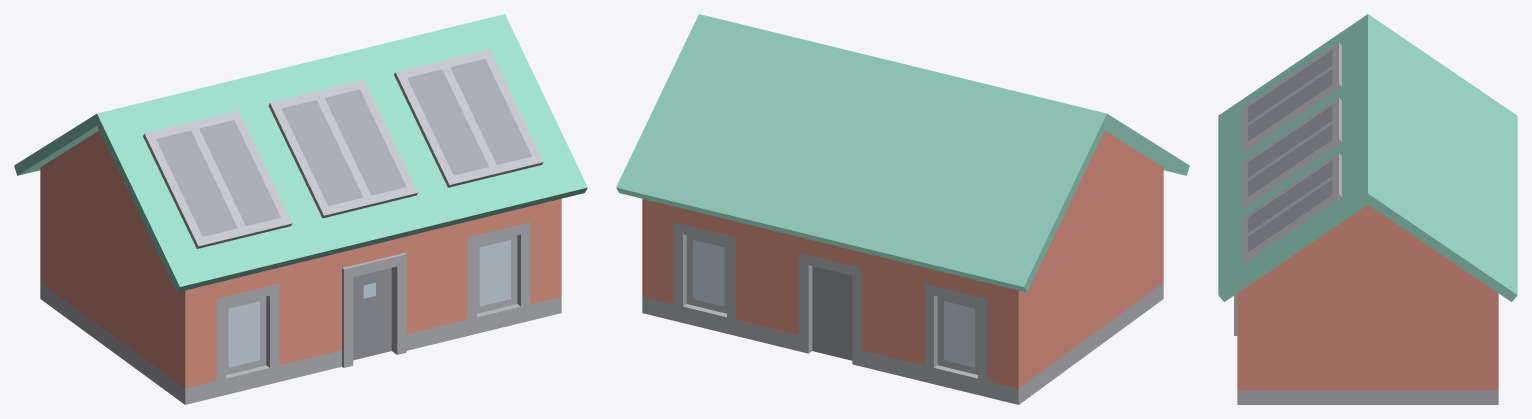
The model's file is house_type01.gltf.
3 renders of one model, left to right at view 1: azimuth 30°, elevation 25°; view 2: azimuth 150°, elevation 25°; view 3: azimuth 270°, elevation 25°, orthographic. The views are drawn at different scales.
Parts seen in each view (by area): view 1: house_type01; view 2: house_type01; view 3: house_type01.
Boxes of the visible parts, <box> form: house_type01: <box>14,14,587,404</box>; house_type01: <box>616,14,1189,404</box>; house_type01: <box>1218,14,1517,404</box>.
Bounding box in the file's own units: 1.3 × 0.7375 × 0.916.
